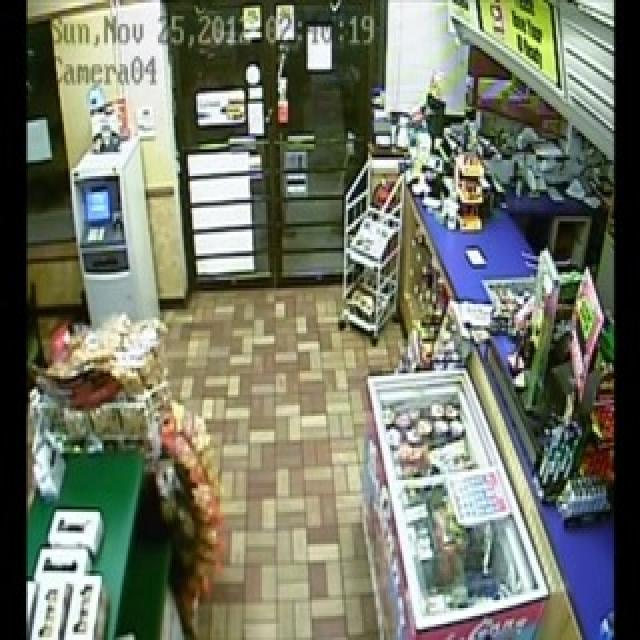burglary: (264, 30, 376, 228)
